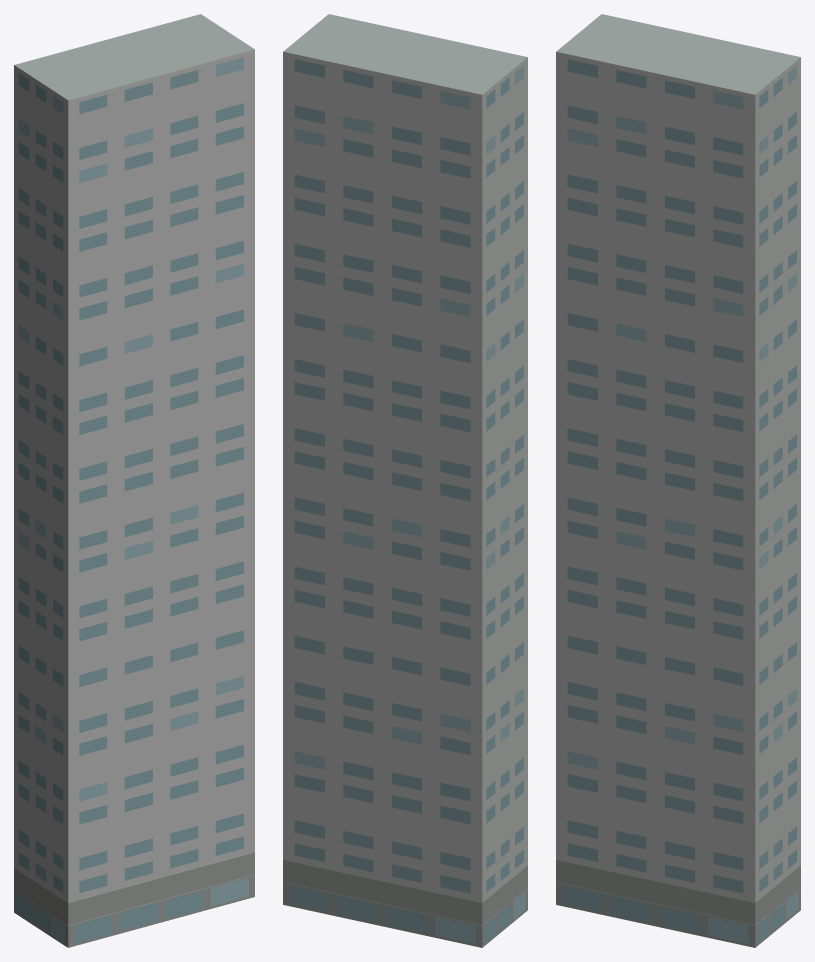
The model's file is residential-147b8490-c216-4695-9dd6-9334323b1592.glb.
3 renders of one model, left to right at view 1: azimuth 30°, elevation 25°; view 2: azimuth 150°, elevation 25°; view 3: azimuth 330°, elevation 25°, orthographic.
Parts seen in each view (by area): view 1: residential-147b8490-c216-4695-9dd6-9334323b1592.tmp; view 2: residential-147b8490-c216-4695-9dd6-9334323b1592.tmp; view 3: residential-147b8490-c216-4695-9dd6-9334323b1592.tmp.
Boxes of the visible parts, left/top/right/bottom form: residential-147b8490-c216-4695-9dd6-9334323b1592.tmp: left=14, top=14, right=254, bottom=947; residential-147b8490-c216-4695-9dd6-9334323b1592.tmp: left=283, top=14, right=527, bottom=947; residential-147b8490-c216-4695-9dd6-9334323b1592.tmp: left=556, top=14, right=800, bottom=947.
Size of the model in its own units: 28.67 by 118 by 13.97.
